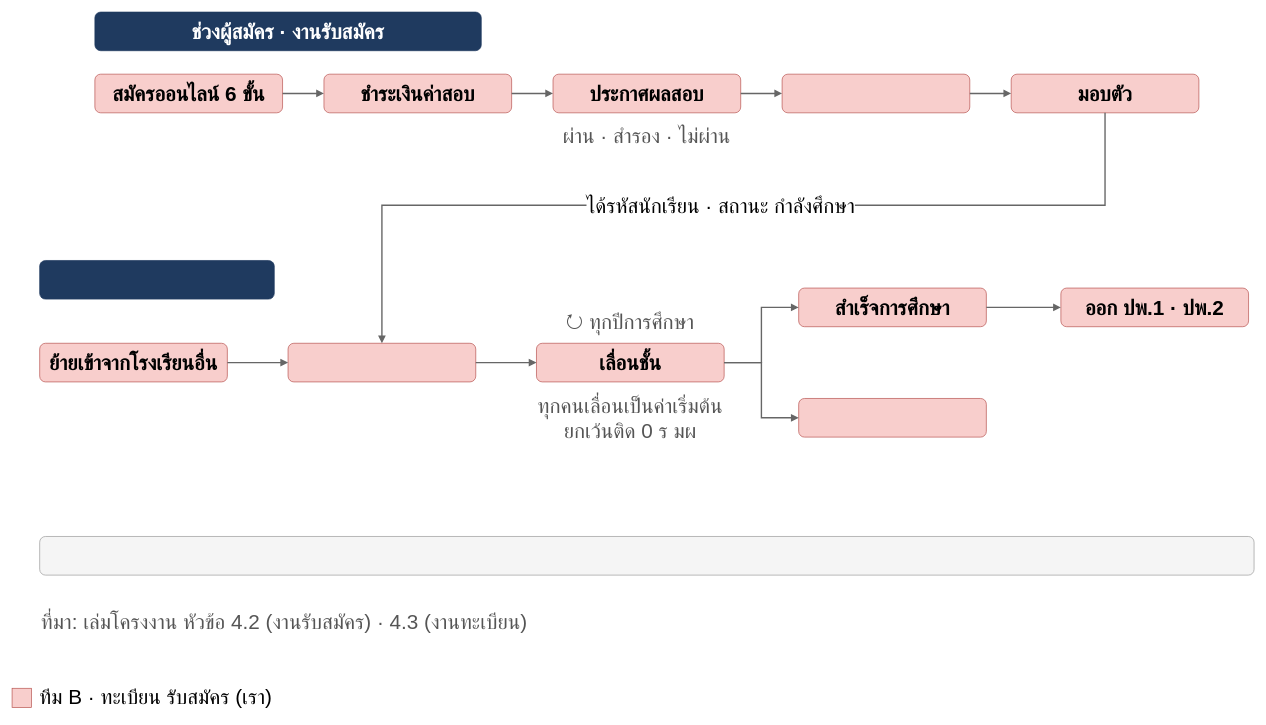
Some shapes in this 1266 by 725 pixel diagram are drawn without their labels. The box of each missing label's shape, as (x1, y1, x2, y2) in pixels:
จัดห้อง / ย้ายห้อง: (287, 343, 476, 382)
ช่วงนักเรียน · งานทะเบียน: (39, 260, 274, 299)
ย้ายออก / ลาออก: (798, 398, 986, 437)
รายงานตัว: (781, 73, 970, 113)
สถานะนักเรียนในระบบ: กำลังศึกษา → สำเร็จการศึกษา / ย้ายออก / ลาออก: (39, 536, 1254, 575)
